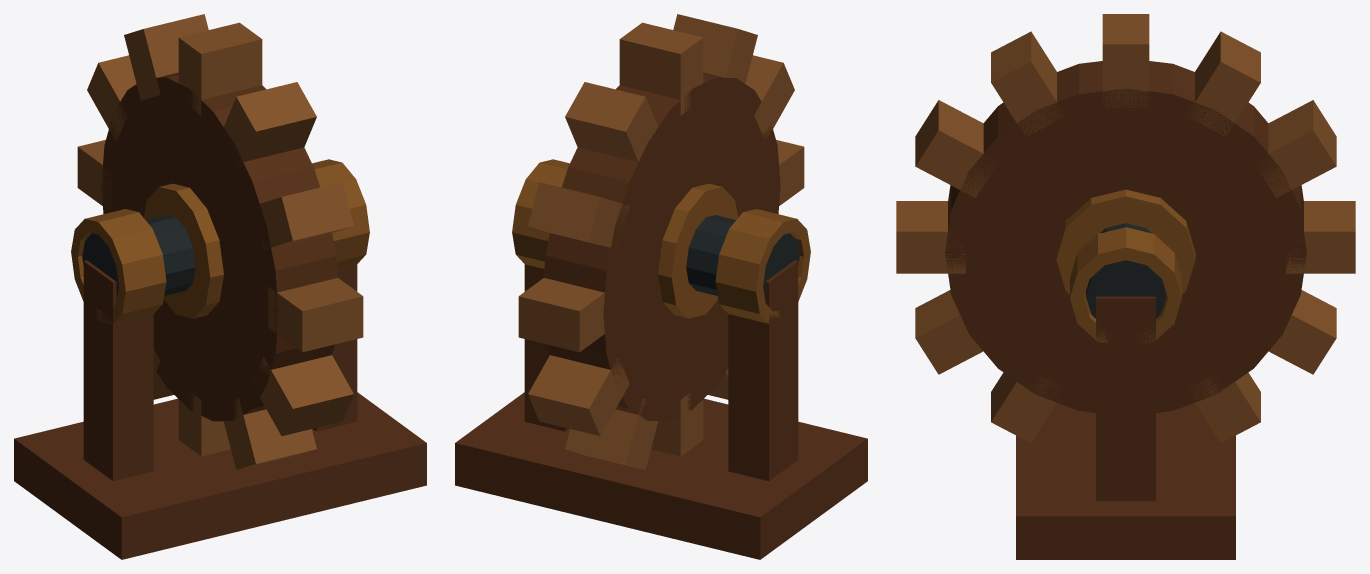
The model's file is vf_cog.obj.
The picture shows the model from 3 angles, left to right: view 1: azimuth 30°, elevation 25°; view 2: azimuth 150°, elevation 25°; view 3: azimuth 270°, elevation 25°; orthographic projection. The views are drawn at different scales.
Visible parts, largest first — view 1: Static_Oak, Rotor_OakLight, Rotor_Oak, Static_Bronze, Rotor_Bronze, Rotor_Iron; view 2: Static_Oak, Rotor_Oak, Rotor_OakLight, Static_Bronze, Rotor_Bronze, Rotor_Iron; view 3: Rotor_Oak, Rotor_OakLight, Static_Oak, Rotor_Bronze, Static_Bronze, Rotor_Iron.
Boxes of the visible parts, left/top/right/bottom form: Static_Oak: left=14, top=260, right=426, bottom=559; Rotor_OakLight: left=77, top=14, right=363, bottom=469; Rotor_Oak: left=101, top=72, right=337, bottom=421; Static_Bronze: left=71, top=159, right=369, bottom=324; Rotor_Bronze: left=144, top=183, right=223, bottom=318; Rotor_Iron: left=82, top=215, right=195, bottom=299; Static_Oak: left=455, top=260, right=867, bottom=559; Rotor_Oak: left=544, top=72, right=780, bottom=421; Rotor_OakLight: left=518, top=14, right=804, bottom=469; Static_Bronze: left=512, top=159, right=810, bottom=323; Rotor_Bronze: left=658, top=183, right=737, bottom=318; Rotor_Iron: left=686, top=215, right=799, bottom=299; Rotor_Oak: left=945, top=61, right=1306, bottom=412; Rotor_OakLight: left=896, top=14, right=1355, bottom=442; Static_Oak: left=1016, top=296, right=1235, bottom=559; Rotor_Bronze: left=1056, top=189, right=1195, bottom=294; Static_Bronze: left=1070, top=227, right=1181, bottom=345; Rotor_Iron: left=1086, top=223, right=1165, bottom=318.
Bounding box in the file's own units: 0.9 × 1.25 × 1.15.
